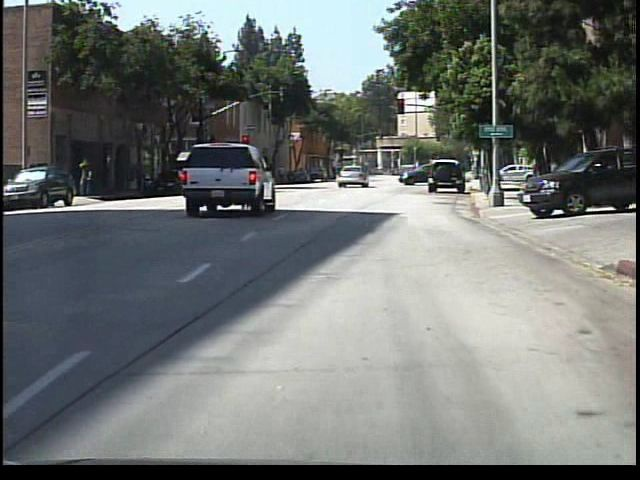person: (79, 157, 99, 199), (483, 155, 498, 182), (336, 162, 337, 186)
